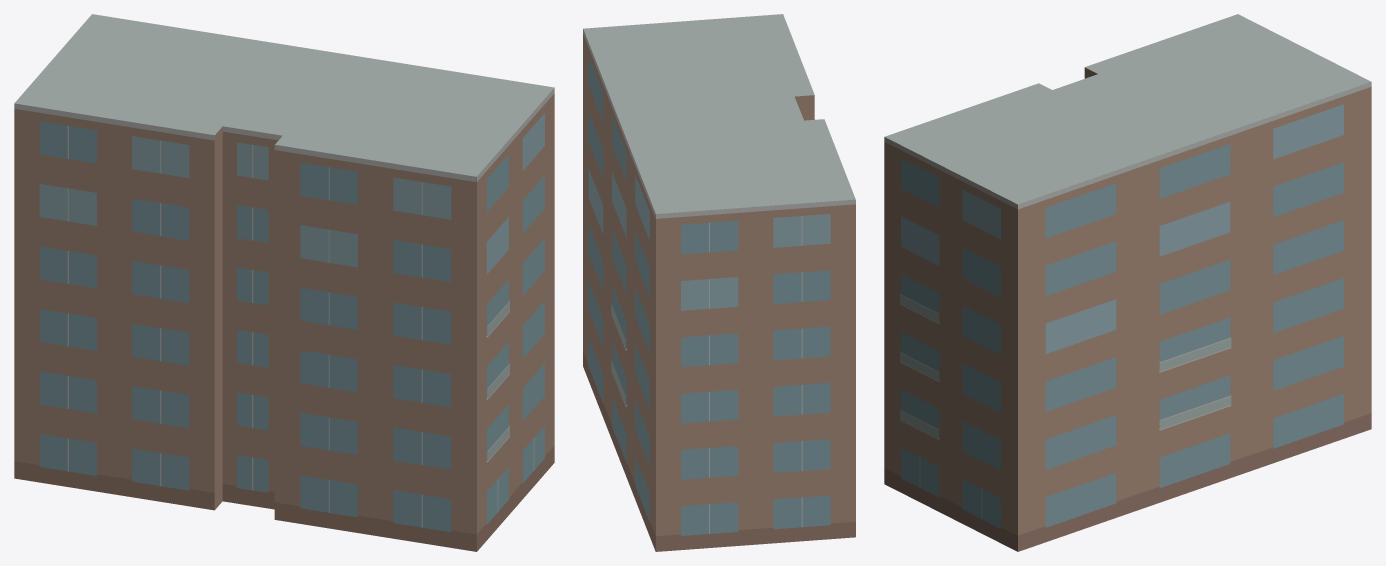
Rendered from survey-upis-32638016.glb.
3 views of the same model, side by side, from view 1: azimuth 30°, elevation 25°; view 2: azimuth 150°, elevation 25°; view 3: azimuth 270°, elevation 25° (orthographic). The views are drawn at different scales.
Parts seen in each view (by area): view 1: survey-upis-32638016.tmp; view 2: survey-upis-32638016.tmp; view 3: survey-upis-32638016.tmp.
Boxes of the visible parts, <box> form: survey-upis-32638016.tmp: <box>14,14,554,551</box>; survey-upis-32638016.tmp: <box>583,14,855,551</box>; survey-upis-32638016.tmp: <box>884,14,1371,551</box>.
Bounding box in the file's own units: 20.24 × 17.2 × 21.87.
